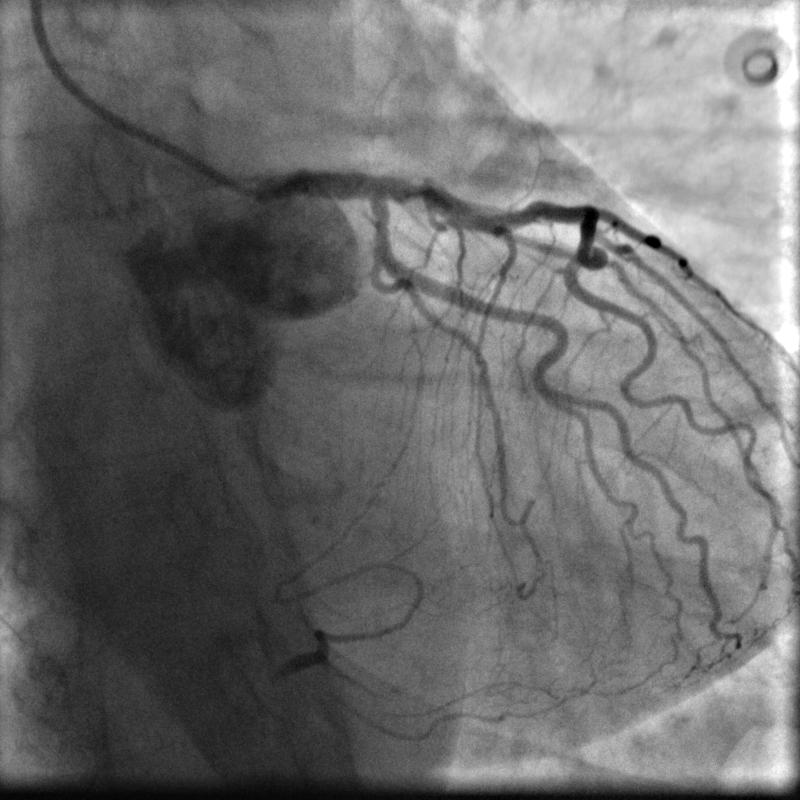Stenosis: (397, 171, 433, 206)
